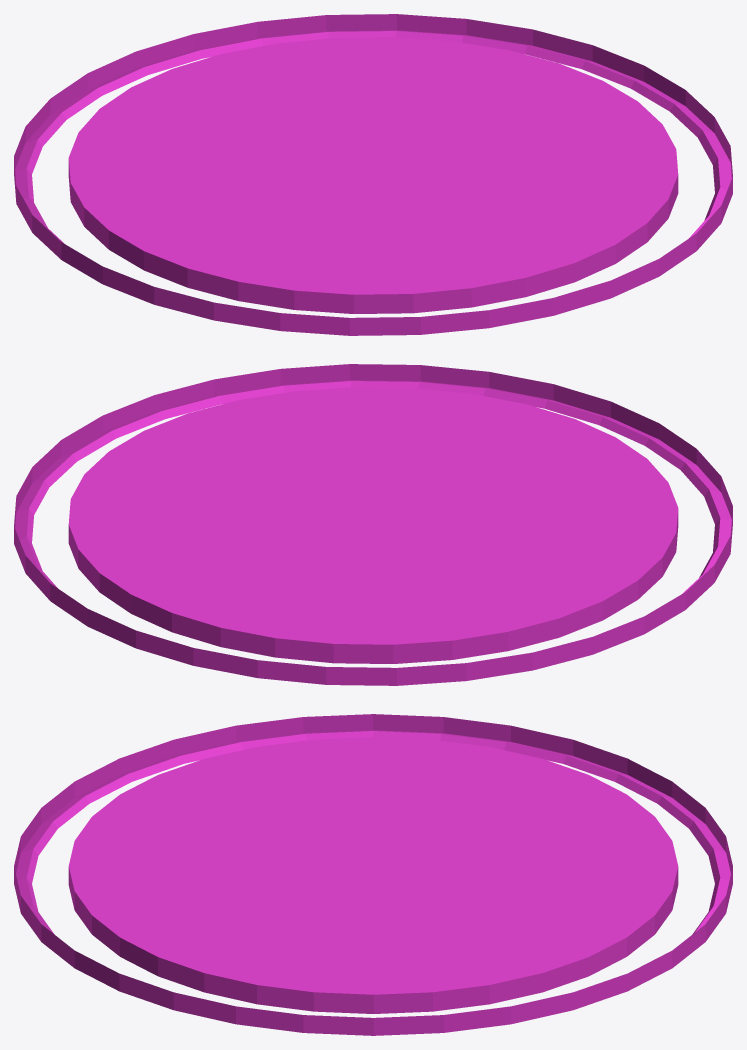
Rendered from circles_1.glb.
3 renders of one model, top to bottom at view 1: azimuth 30°, elevation 25°; view 2: azimuth 150°, elevation 25°; view 3: azimuth 270°, elevation 25°, orthographic.
Parts seen in each view (by area): view 1: Circle, Circle.001; view 2: Circle, Circle.001; view 3: Circle, Circle.001.
Boxes of the visible parts, <box> form: Circle: <box>68,37,678,313</box>; Circle.001: <box>14,14,732,335</box>; Circle: <box>68,387,678,663</box>; Circle.001: <box>14,364,732,685</box>; Circle: <box>68,737,678,1013</box>; Circle.001: <box>14,714,732,1035</box>.
Bounding box in the file's own units: 2.36 × 0.07 × 2.36.
